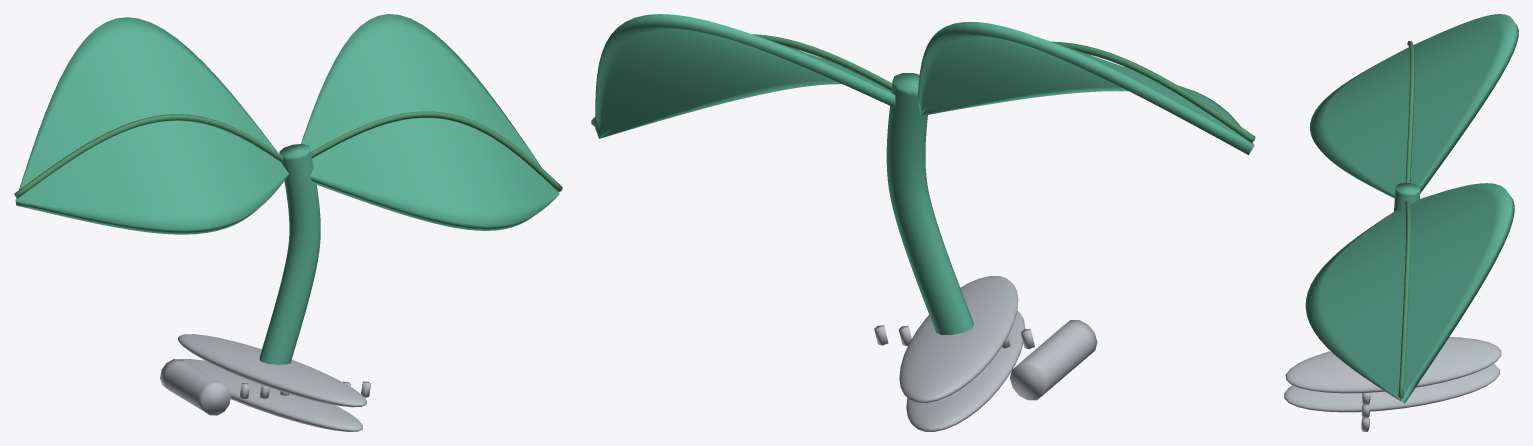
Rendered from Feminine-ponytail-pashmina249-sprout.glb.
3 views of the same model, side by side, from view 1: azimuth 30°, elevation 25°; view 2: azimuth 150°, elevation 25°; view 3: azimuth 270°, elevation 25° (orthographic). The views are drawn at different scales.
Parts seen in each view (by area): view 1: 226 extra / Accessory / mint226, 226 extra / Sprout / clip silver235, 226 extra / Sprout / leaf vein235; view 2: 226 extra / Accessory / mint226, 226 extra / Sprout / clip silver235, 226 extra / Sprout / leaf vein235; view 3: 226 extra / Accessory / mint226, 226 extra / Sprout / clip silver235, 226 extra / Sprout / leaf vein235.
Part boxes in pixels (x1,y1,x2,y2): 226 extra / Accessory / mint226: (15, 14, 559, 364); 226 extra / Sprout / clip silver235: (160, 334, 370, 431); 226 extra / Sprout / leaf vein235: (14, 111, 562, 198); 226 extra / Accessory / mint226: (595, 14, 1254, 334); 226 extra / Sprout / clip silver235: (874, 276, 1097, 431); 226 extra / Sprout / leaf vein235: (591, 34, 1255, 143); 226 extra / Accessory / mint226: (1305, 14, 1518, 403); 226 extra / Sprout / clip silver235: (1284, 337, 1501, 431); 226 extra / Sprout / leaf vein235: (1398, 41, 1414, 398).
Bounding box in the file's own units: 0.2656 × 0.1692 × 0.108.
